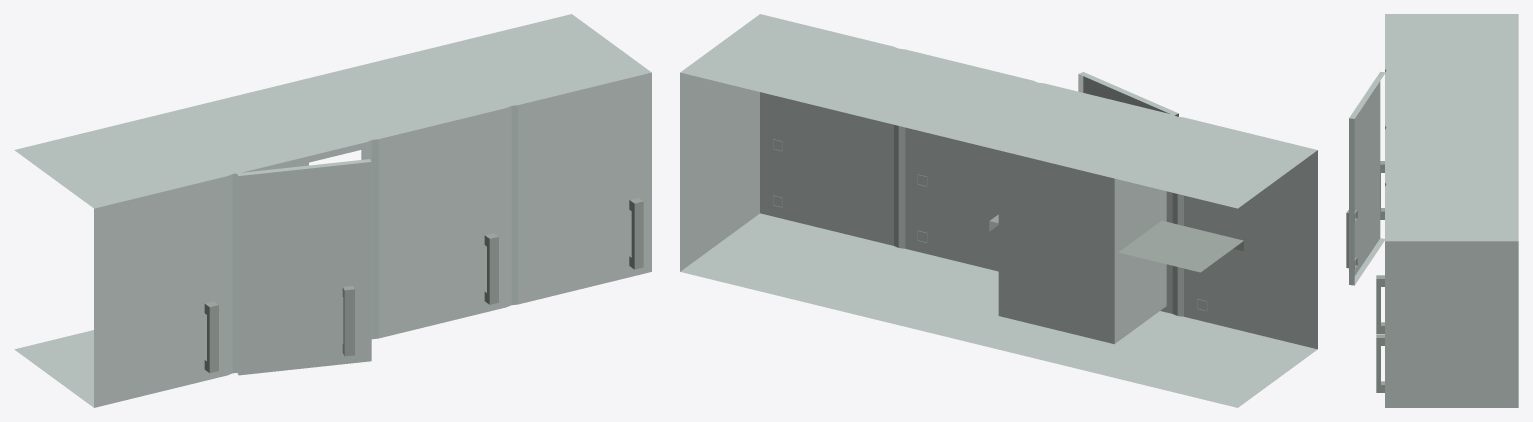
File: hanging_storage.glb
3 renders of one model, left to right at view 1: azimuth 30°, elevation 25°; view 2: azimuth 150°, elevation 25°; view 3: azimuth 270°, elevation 25°, orthographic. The views are drawn at different scales.
Parts seen in each view (by area): view 1: shelf, handle2, handle1, handle4, handle3; view 2: shelf, rack2; view 3: shelf, handle1, handle2, handle3.
Part boxes in pixels (x1=…): shelf: x1=14, y1=14, x2=651, y2=407; handle2: x1=629, y1=197, x2=643, y2=269; handle1: x1=484, y1=233, x2=498, y2=304; handle4: x1=204, y1=301, x2=218, y2=372; handle3: x1=342, y1=286, x2=354, y2=356; shelf: x1=680, y1=14, x2=1317, y2=407; rack2: x1=989, y1=214, x2=1243, y2=272; shelf: x1=1349, y1=14, x2=1518, y2=407; handle1: x1=1376, y1=275, x2=1384, y2=333; handle2: x1=1376, y1=334, x2=1384, y2=392; handle3: x1=1346, y1=210, x2=1357, y2=268.
Bounding box in the file's own units: 0.9307 × 0.3179 × 0.2979.
1 material, 1 textured.
